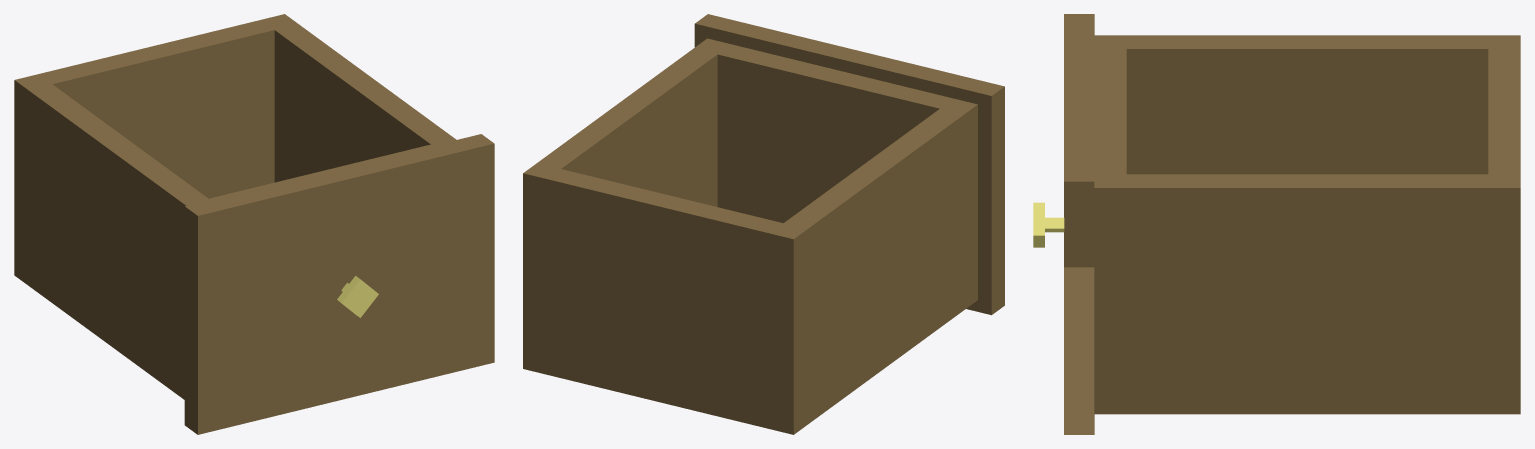
The model's file is Itr_Wardrobe2_Drawer_Small_01.FBX.
The picture shows the model from 3 angles, left to right: view 1: azimuth 30°, elevation 25°; view 2: azimuth 150°, elevation 25°; view 3: azimuth 270°, elevation 25°; orthographic projection. The views are drawn at different scales.
Parts seen in each view (by area): view 1: Itr_Wardrobe2_Drawer_Small_01; view 2: Itr_Wardrobe2_Drawer_Small_01; view 3: Itr_Wardrobe2_Drawer_Small_01.
Part boxes in pixels (left/top/right/bottom): Itr_Wardrobe2_Drawer_Small_01: left=14, top=14, right=494, bottom=434; Itr_Wardrobe2_Drawer_Small_01: left=523, top=14, right=1004, bottom=434; Itr_Wardrobe2_Drawer_Small_01: left=1033, top=14, right=1520, bottom=434.
Bounding box in the file's own units: 18.79 × 13.26 × 23.09.
